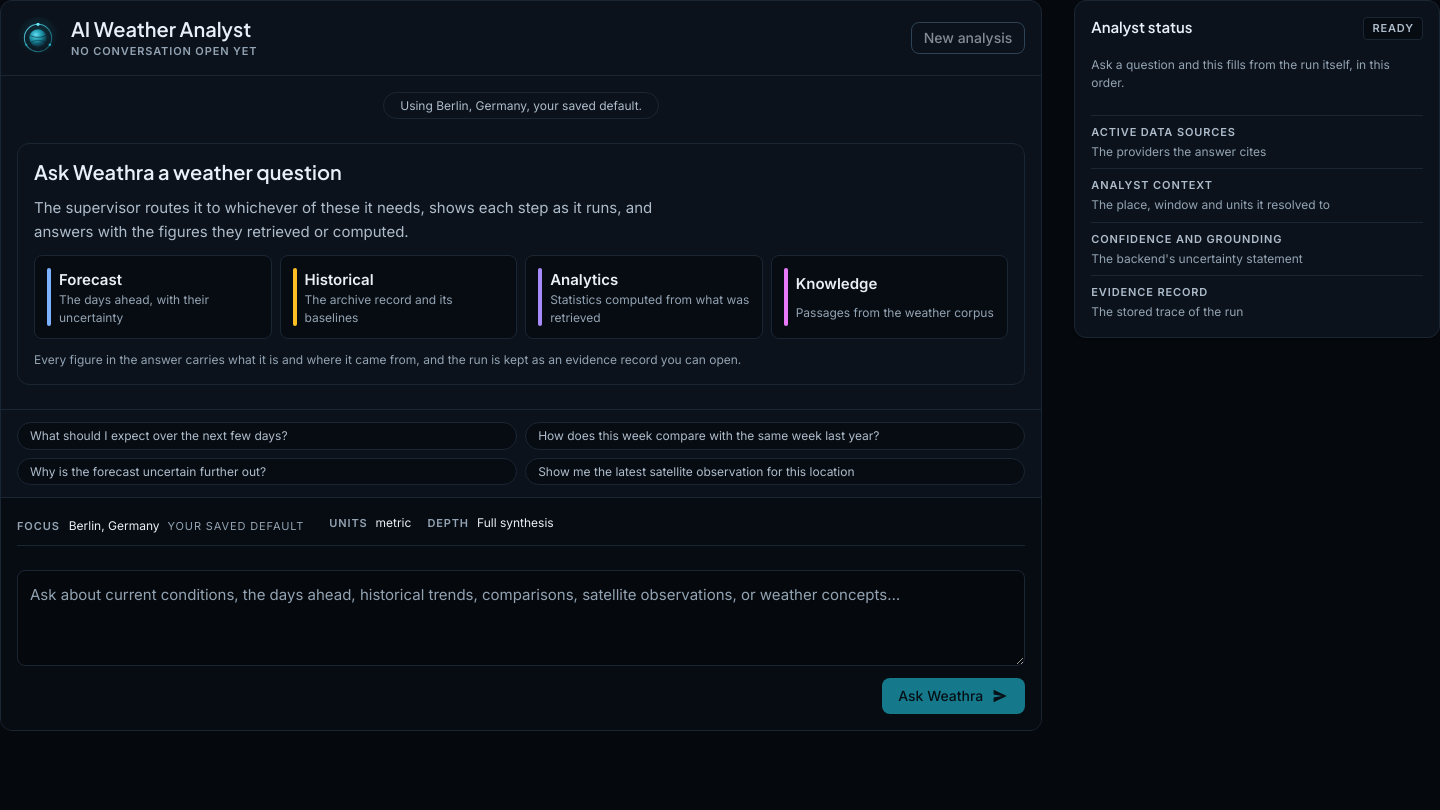
Scenario: asking a question › sends the question to the agent stream and shows it in the transcript
Replace the text in the text box named "Your weather question" with "What should I expect over the next few days in Berlin?" at (521, 618), box left=17, top=570, right=1025, bottom=666
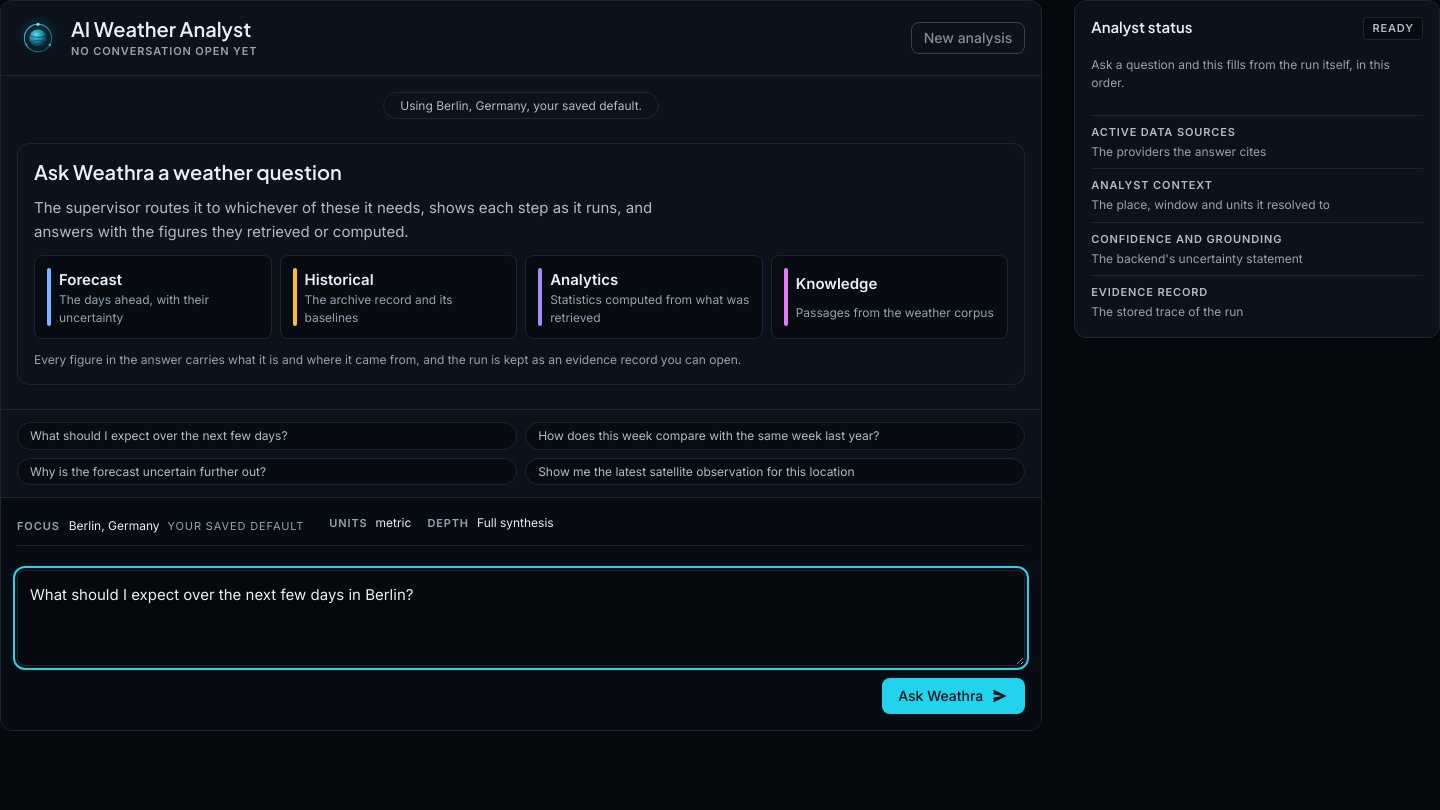
Click the button "Ask Weathra" at (954, 696), box left=882, top=678, right=1025, bottom=714
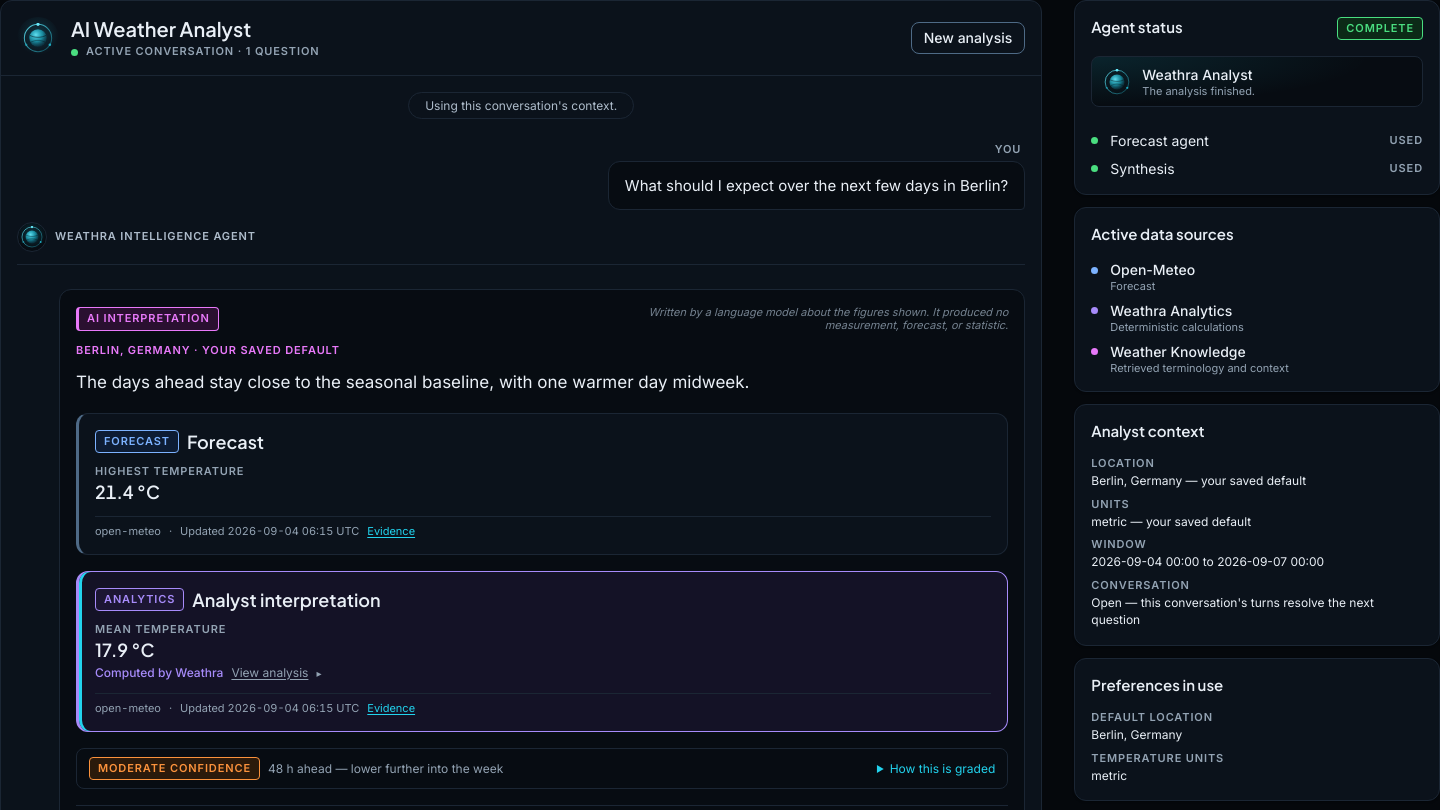
Expected: the text "What should I expect over the next few days in Berlin?" is shown, left=625, top=174, right=1008, bottom=197
